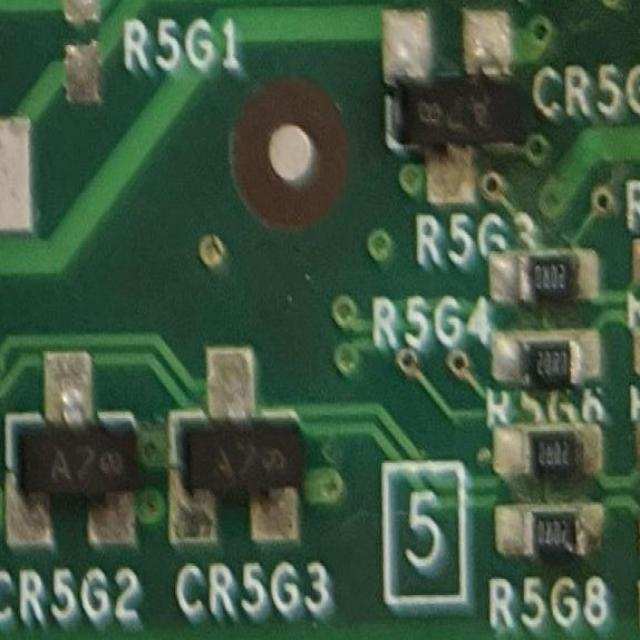4439: (381, 42, 527, 175), (170, 378, 297, 524), (12, 390, 136, 537)
resistor IR1: (523, 337, 596, 395), (510, 248, 584, 300), (523, 420, 581, 480), (521, 508, 590, 554)
